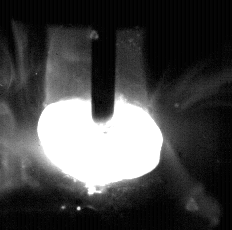arame: (93, 0, 116, 126)
poca: (36, 0, 164, 230)
